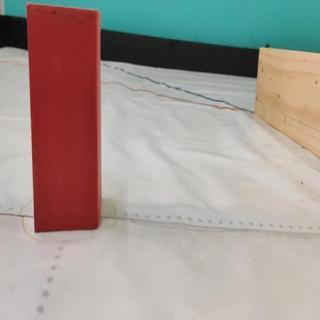redbox: (25, 3, 101, 235)
